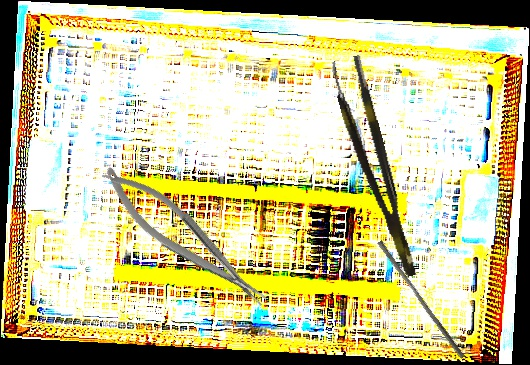Needle Holder: (93, 153, 274, 323)
Pusher: (373, 239, 470, 360)
Tissue Forceps: (328, 54, 419, 283)
